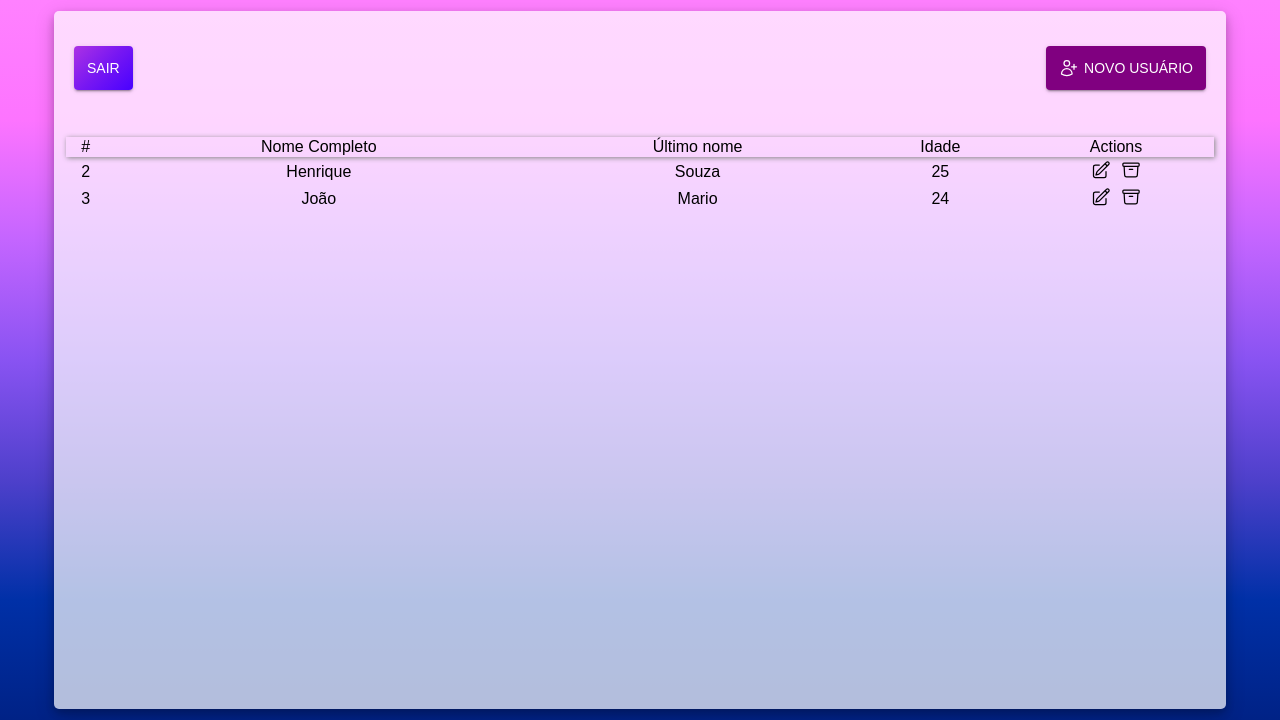
Test case: dashboard › should add user in the list
Click the button "Novo Usuário".
click(1126, 68)  # box x1=1046 y1=46 x2=1206 y2=90
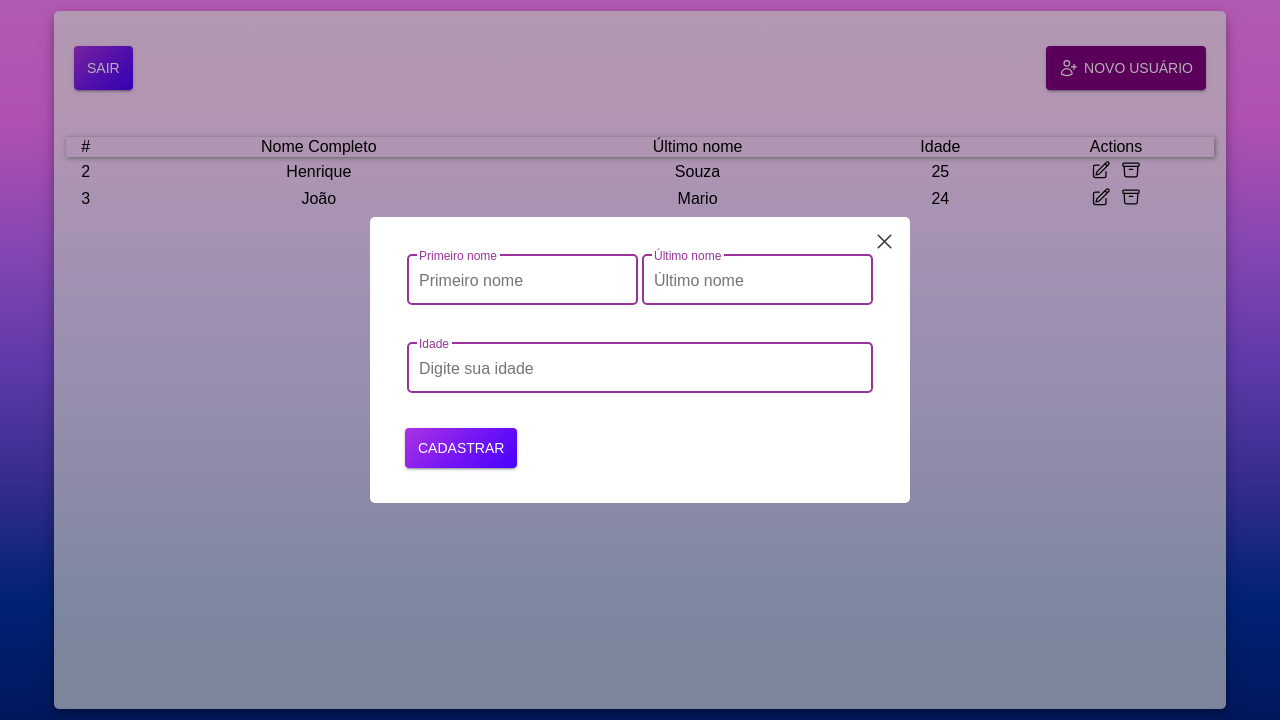
Type "washington" into the field labelled "Primeiro nome".
click(522, 278); type("washington")  # box x1=405 y1=252 x2=640 y2=305
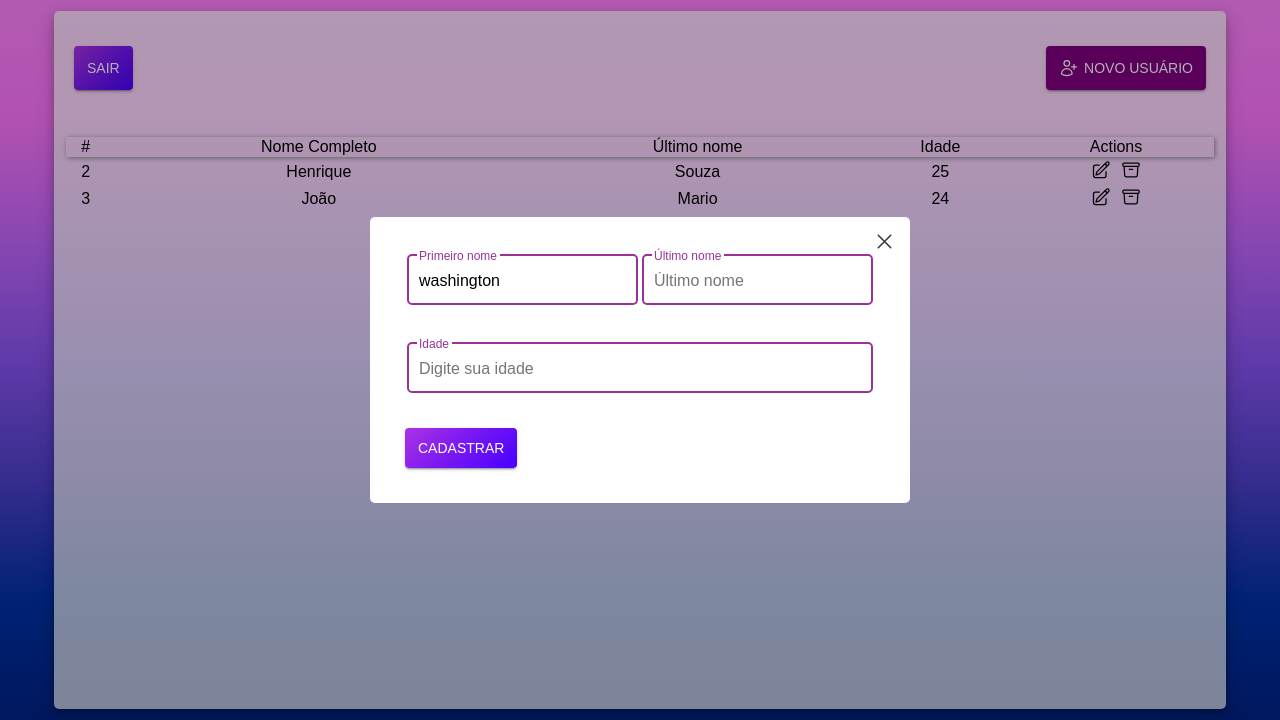
Click the button "Cadastrar".
click(461, 448)  # box x1=405 y1=428 x2=517 y2=468
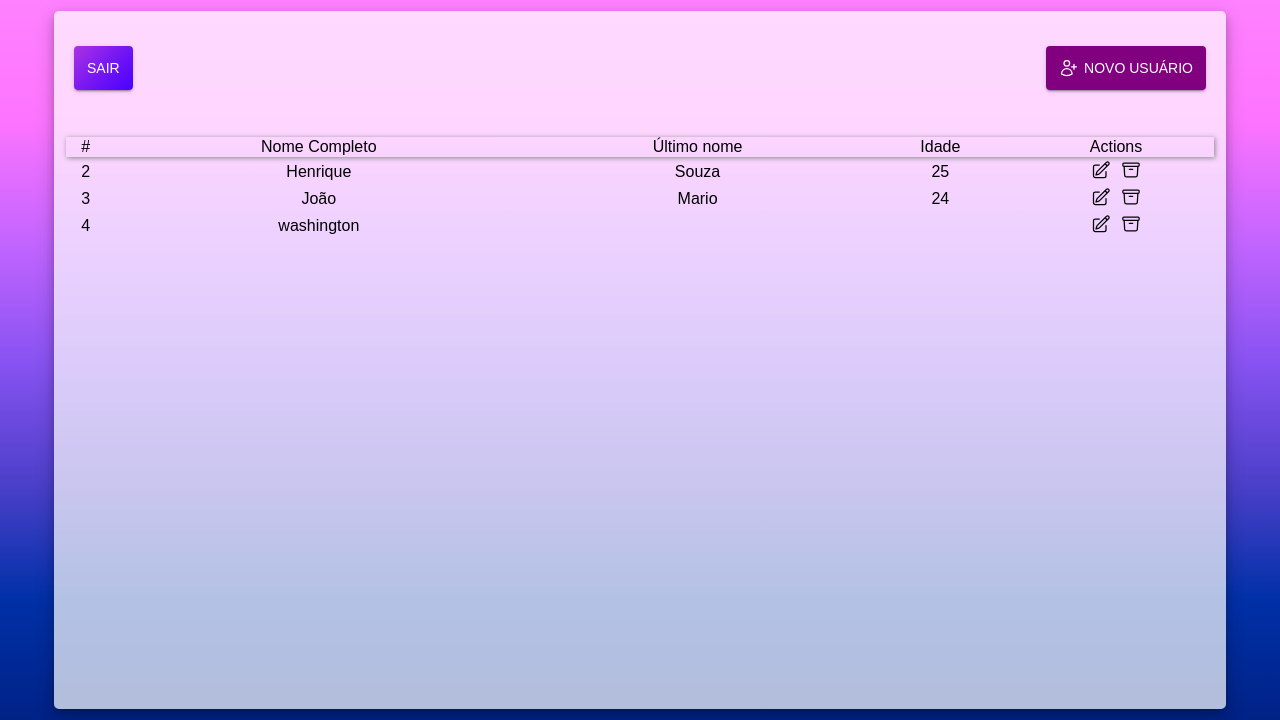
Check: the text "washington" is shown, box x1=107 y1=213 x2=530 y2=238
